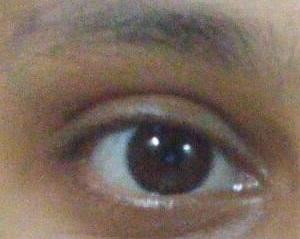open: (27, 78, 297, 232)
